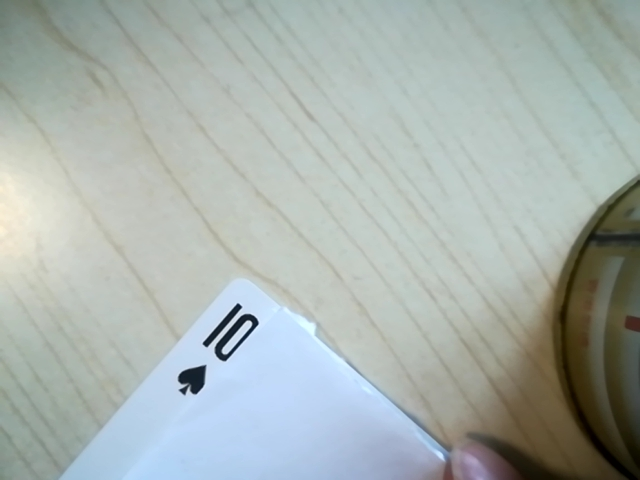ht 10: (161, 299, 272, 405)
